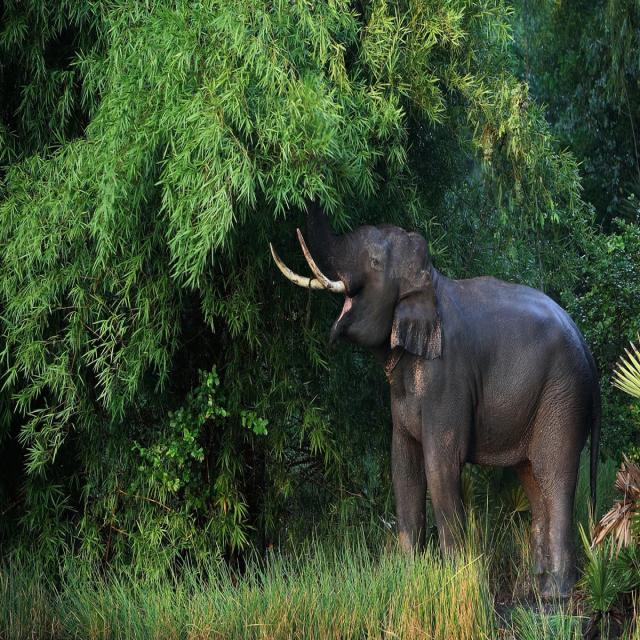Elephant: (274, 188, 614, 616)
